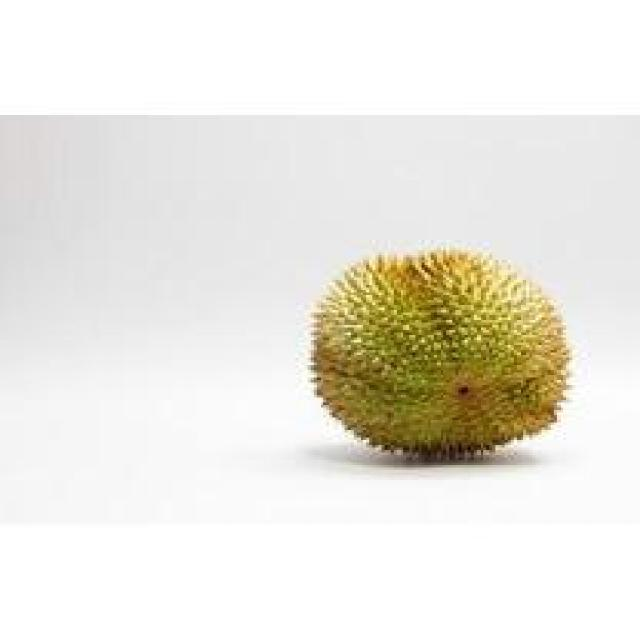fruit: (286, 222, 594, 490)
